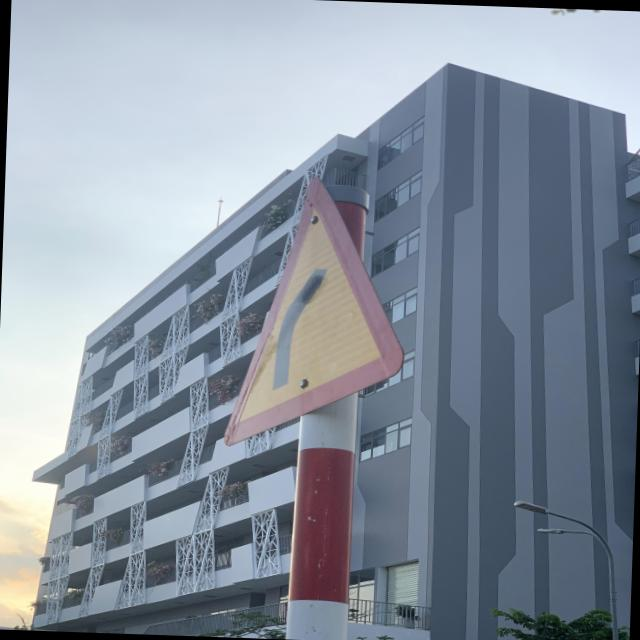Duong_Nguoi_Di_Bo_Cat_Ngang: (215, 174, 412, 452)
